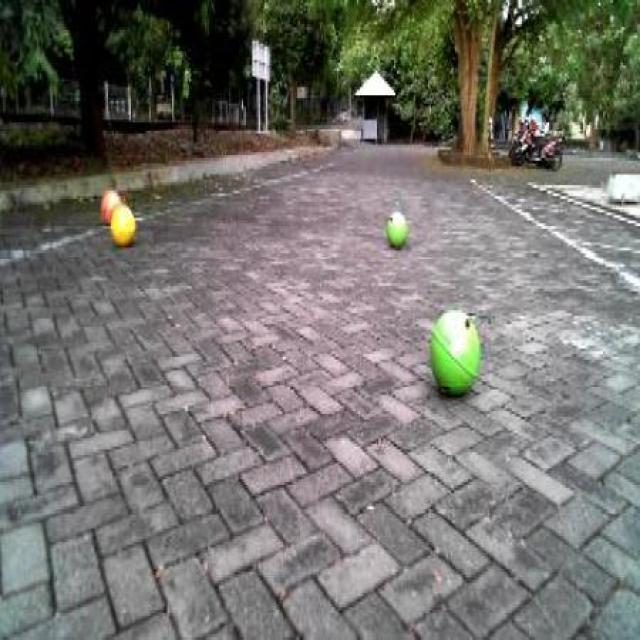buoy: (426, 298, 484, 402), (108, 196, 138, 253), (382, 202, 409, 252), (99, 180, 123, 225)
